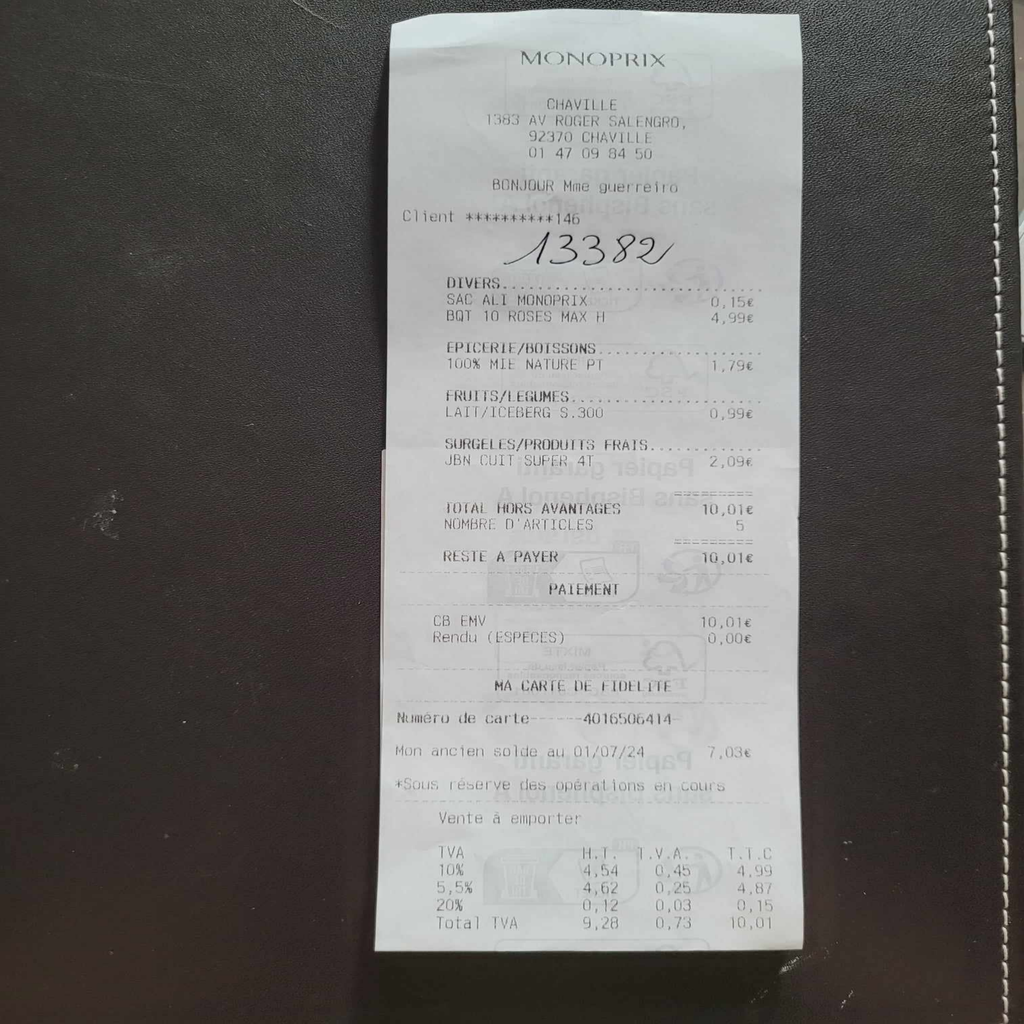recipt: (375, 9, 802, 952)
